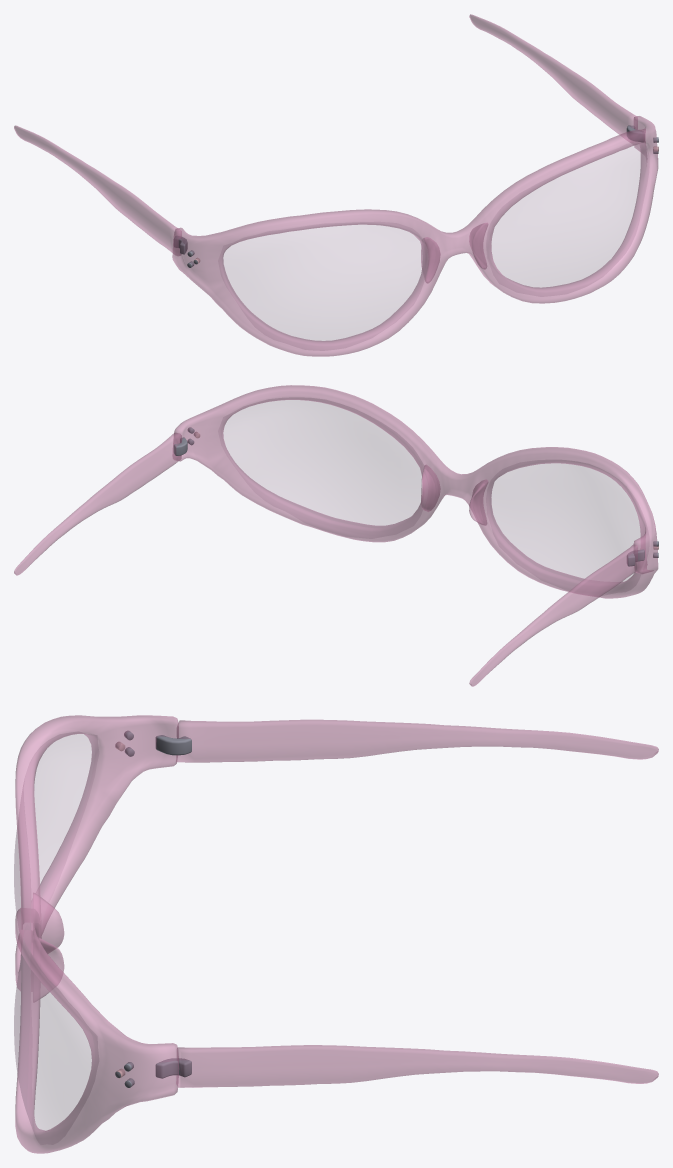
3 views of the same model, one above another, from view 1: azimuth 30°, elevation 25°; view 2: azimuth 150°, elevation 25°; view 3: azimuth 270°, elevation 25° (orthographic). The views are drawn at different scales.
Visible parts, largest first — view 1: model 3.003; view 2: model 3.003; view 3: model 3.003.
Part boxes in pixels (bbox=[...]): model 3.003: bbox=[14, 14, 658, 356]; model 3.003: bbox=[14, 385, 658, 686]; model 3.003: bbox=[14, 715, 658, 1153].
Bounding box in the file's own units: 3.39 × 0.9691 × 2.72.
